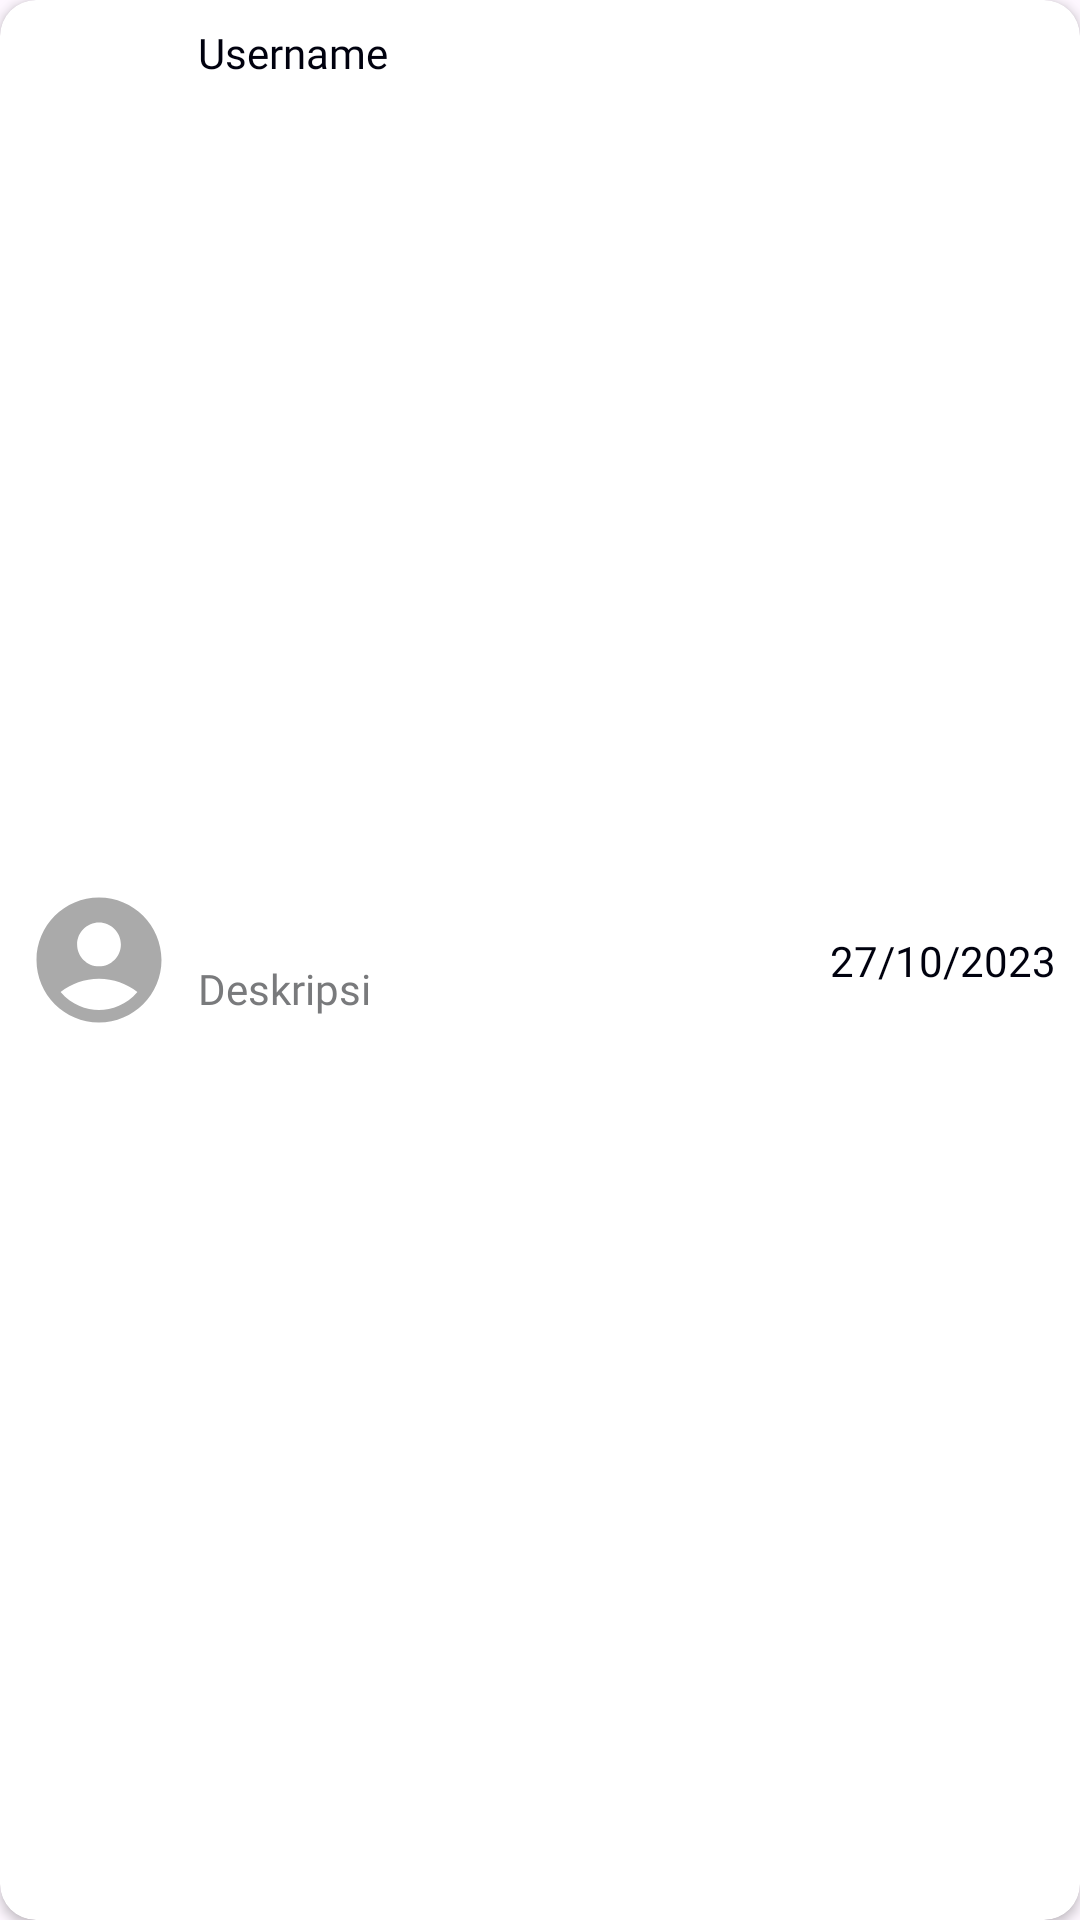

Screen size 1080x1920. Icon name, then its box in pixels as (x1, y1, x2, y2):
account circle: (36, 897, 162, 1023)
